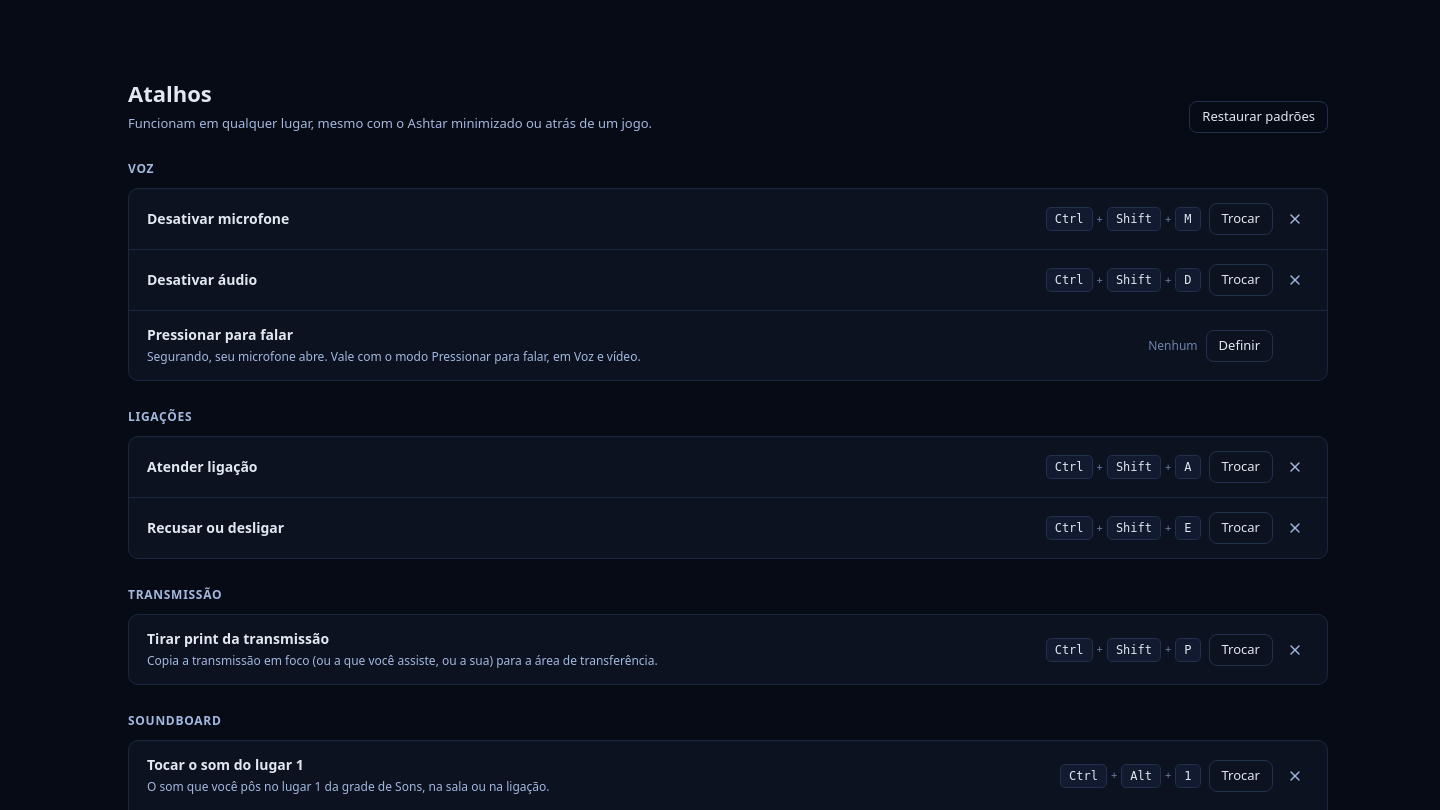
Test: Configurações › Atalhos › Esc desiste sem mudar nada, e não fecha as configurações
Click the button with aria-label "Trocar atalho de Desativar microfone". click: {"x": 1241, "y": 219}
box: x1=1208 y1=203 x2=1273 y2=235
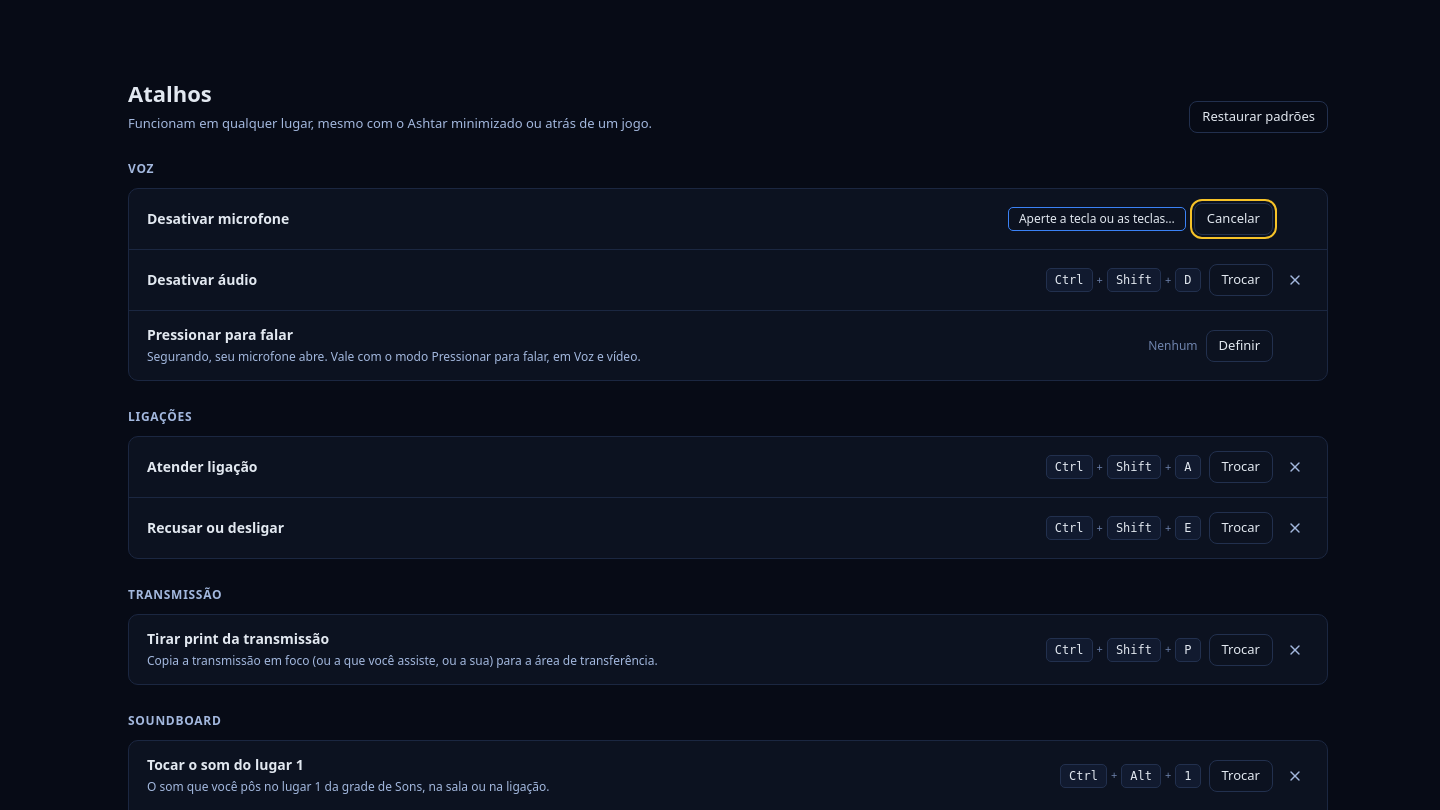
Press Escape
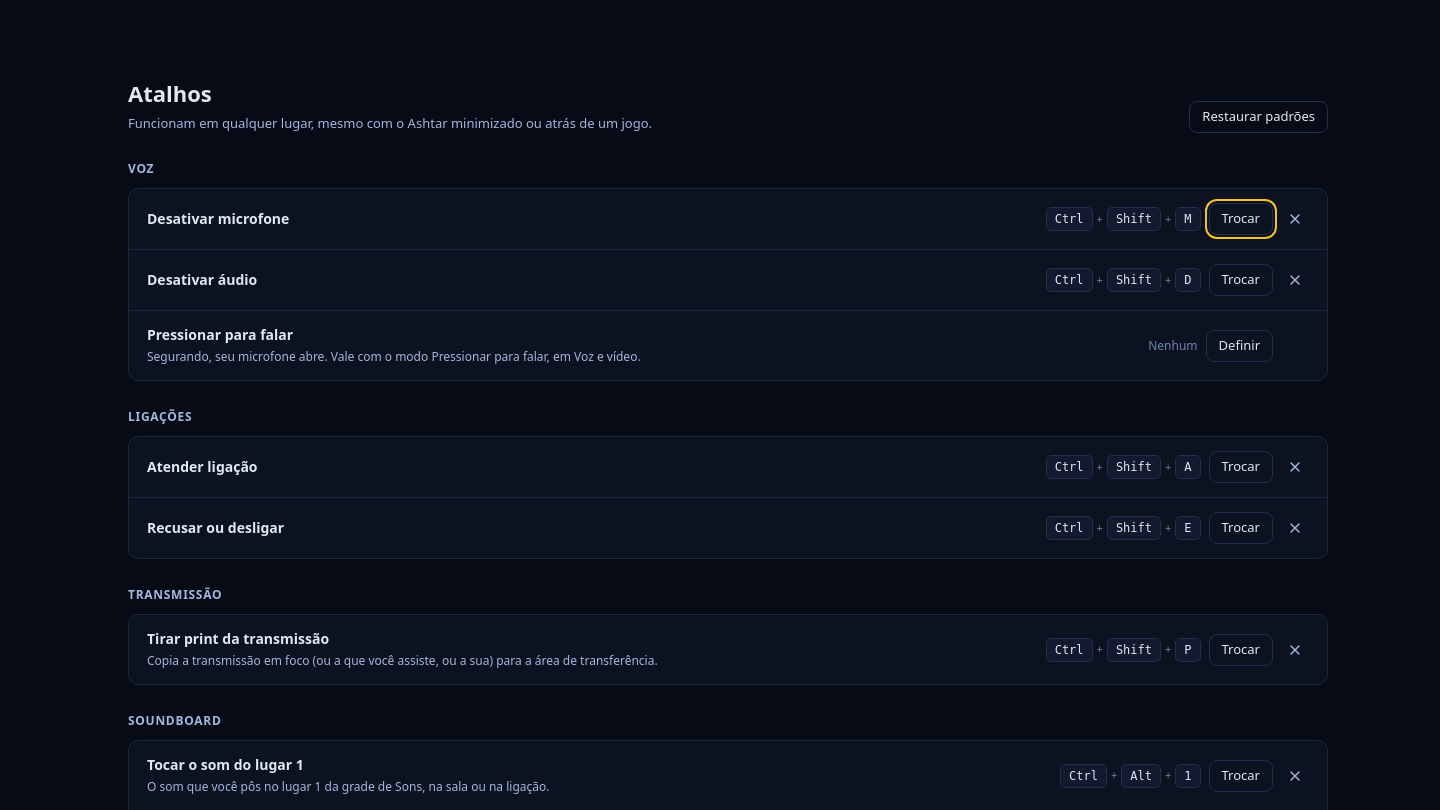
Now the text "Aperte a tecla ou as teclas…" is gone
